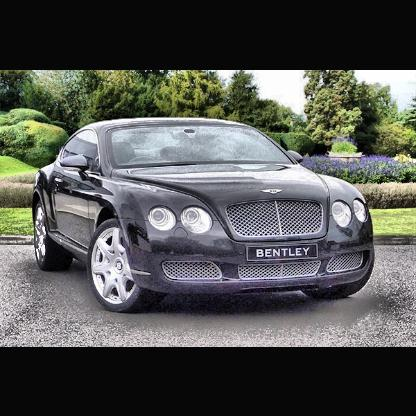Bentley Continental GT Coupe 2007: (34, 118, 377, 312)
